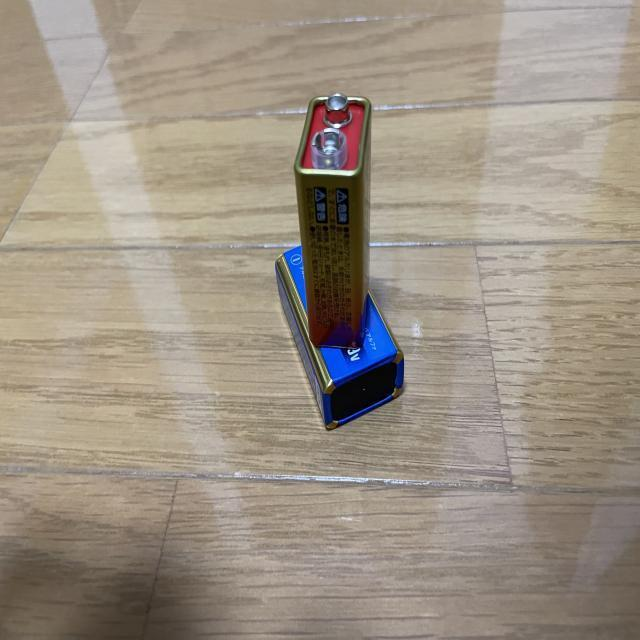9V: (275, 246, 406, 432), (293, 93, 373, 351)
